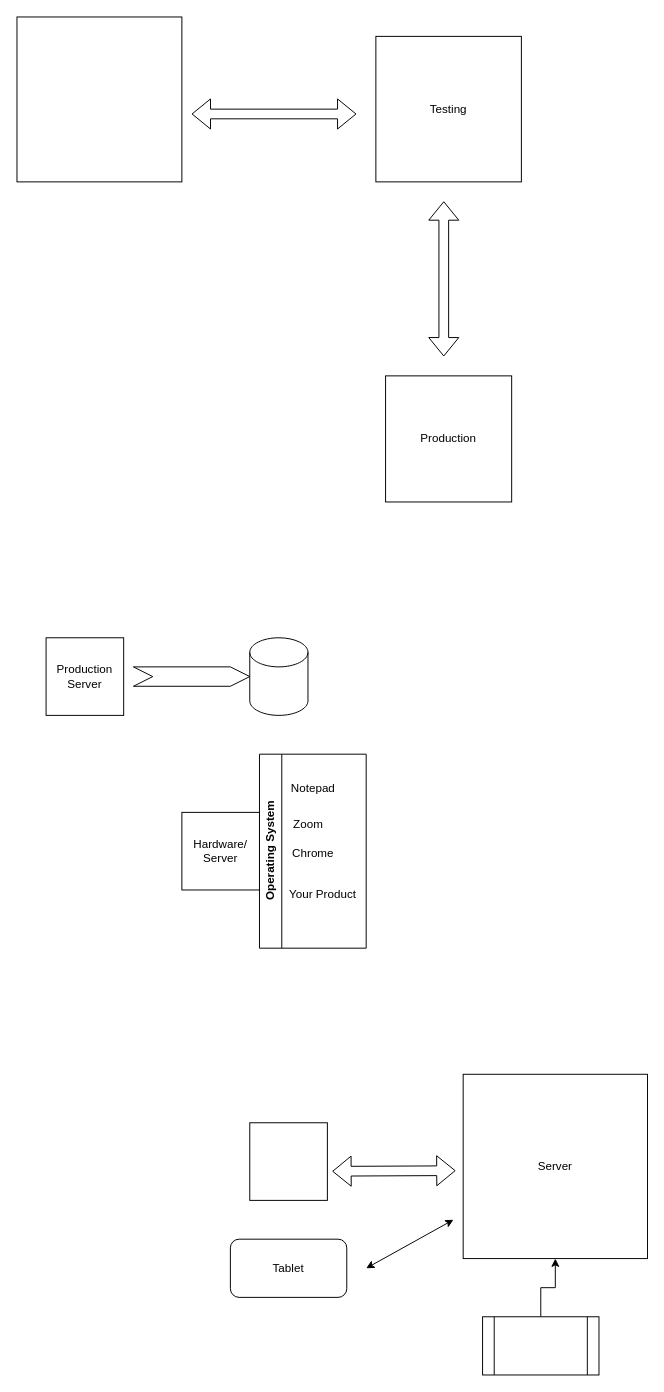
Image size: 664x1392. Some labels were removed from this diagram. Here are the shapes that lost their labels. From the top down, the centre of each, then its label:
At (x=99, y=99): "Development".
At (x=278, y=676): "Database".
At (x=288, y=1161): "Client".
At (x=540, y=1345): "Iphone 15".
